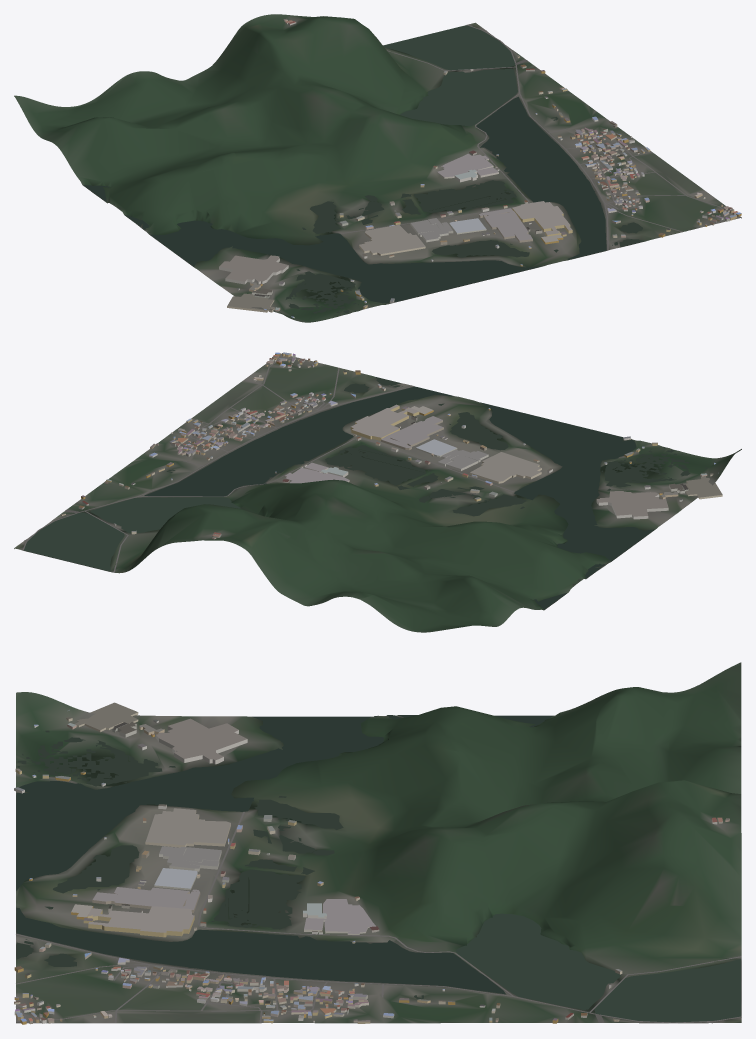
The picture shows the model from 3 angles, top to bottom: view 1: azimuth 30°, elevation 25°; view 2: azimuth 150°, elevation 25°; view 3: azimuth 270°, elevation 25°; orthographic projection. The views are drawn at different scales.
Parts seen in each view (by area): view 1: ground, water, buildings, roads; view 2: ground, water, buildings, roads; view 3: ground, water, buildings, roads.
Part boxes in pixels (box(x1,y1,x2,y2)): ground: box(14, 14, 741, 322); water: box(83, 25, 645, 316); buildings: box(219, 18, 741, 318); roads: box(340, 24, 739, 250); ground: box(14, 353, 741, 632); water: box(24, 377, 707, 609); buildings: box(61, 352, 722, 539); roads: box(22, 354, 513, 572); ground: box(16, 662, 741, 1023); water: box(16, 715, 740, 1022); buildings: box(14, 702, 729, 1024); roads: box(16, 812, 741, 1023).
Bounding box in the file's own units: 1461 × 196 × 1407.
